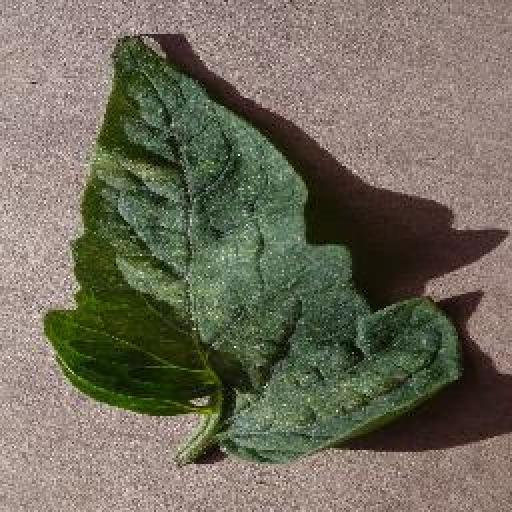Spider Mites: (45, 34, 464, 462)
